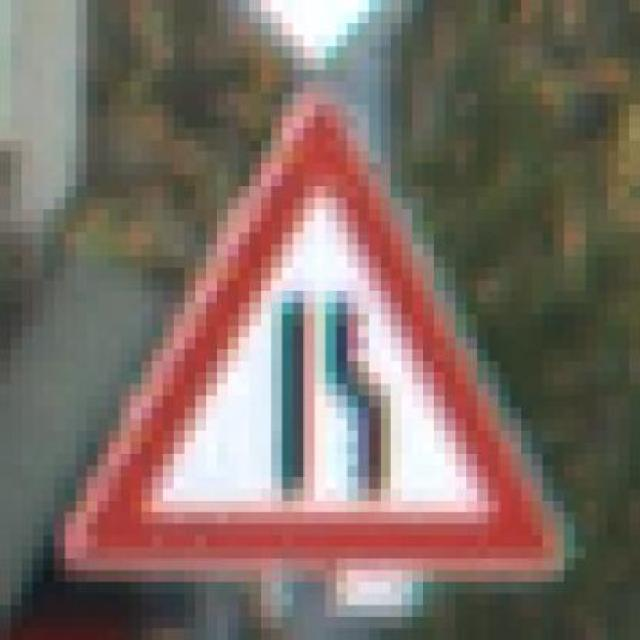-Road narrows on right: (43, 81, 586, 594)
